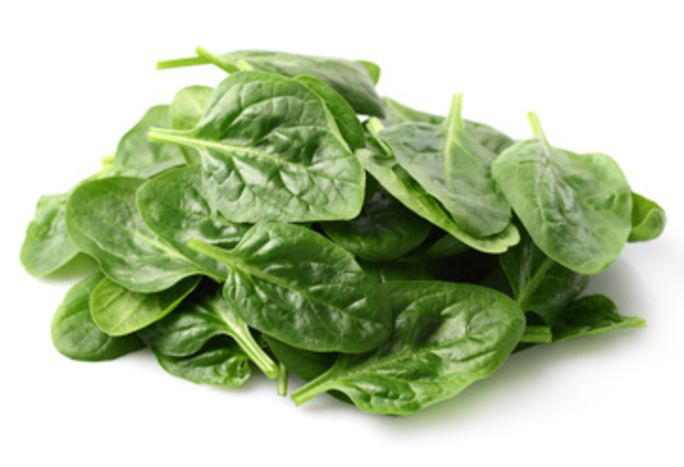Bayam: (64, 84, 671, 433)
